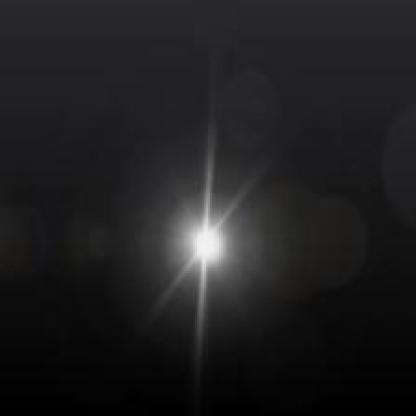other: (178, 202, 252, 293)
